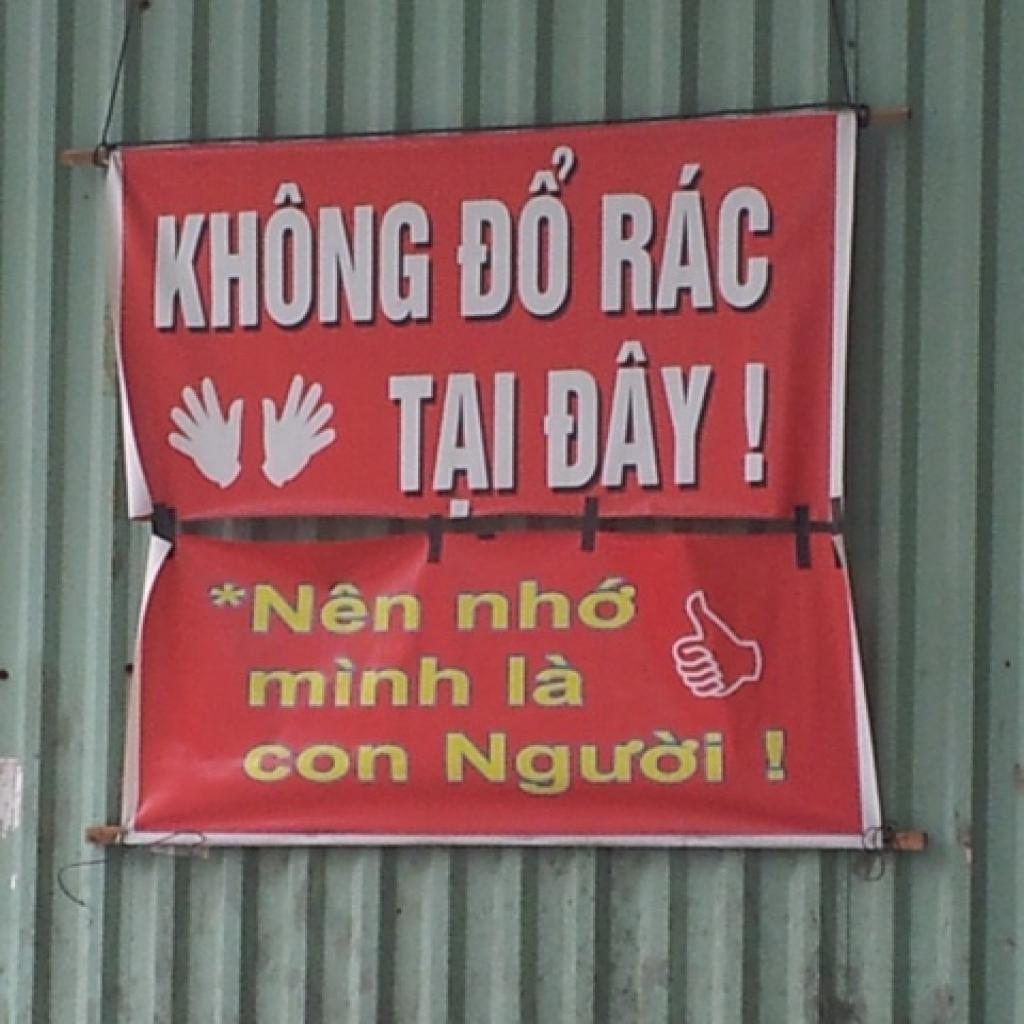text: (152, 178, 433, 332), (540, 336, 772, 496), (600, 164, 772, 314), (450, 146, 583, 326), (442, 730, 725, 804), (386, 368, 521, 518), (243, 657, 474, 710), (452, 575, 644, 634), (248, 581, 426, 636), (241, 741, 412, 784), (501, 653, 591, 712)
